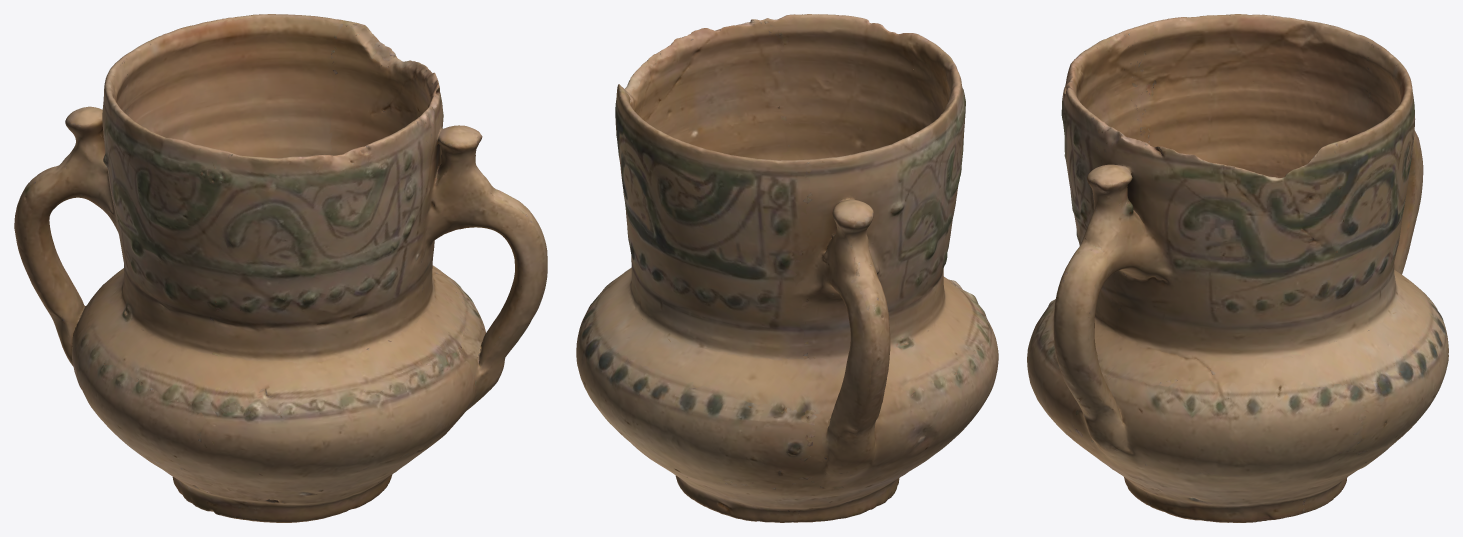
The model's file is preview.glb.
3 views of the same model, side by side, from view 1: azimuth 30°, elevation 25°; view 2: azimuth 150°, elevation 25°; view 3: azimuth 270°, elevation 25° (orthographic).
Parts seen in each view (by area): view 1: Object_2; view 2: Object_2; view 3: Object_2.
Part boxes in pixels (left/top/right/bottom): Object_2: left=14, top=14, right=547, bottom=522; Object_2: left=576, top=14, right=998, bottom=522; Object_2: left=1027, top=14, right=1448, bottom=522.
Bounding box in the file's own units: 0.1335 × 0.1392 × 0.1325.
1 material, 1 textured.
